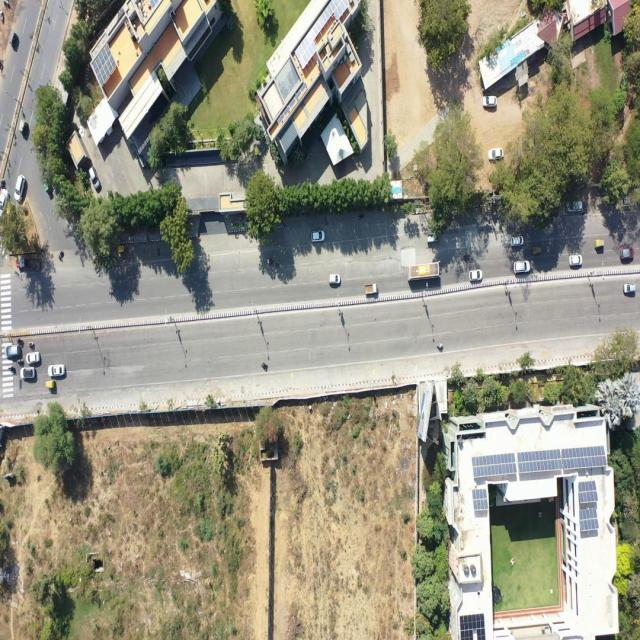3W: (17, 114, 29, 140), (114, 242, 131, 258), (592, 237, 608, 253), (530, 242, 544, 258), (44, 378, 58, 391), (117, 245, 127, 254)
Bus: (406, 258, 443, 285), (408, 266, 439, 278)
Cars: (13, 168, 28, 205), (87, 162, 103, 194), (565, 197, 586, 219), (486, 146, 509, 166), (0, 184, 11, 225), (511, 258, 533, 277), (617, 242, 636, 264), (618, 192, 638, 212), (47, 362, 68, 381), (479, 92, 498, 113), (2, 342, 24, 360), (14, 172, 26, 204), (467, 266, 485, 286), (621, 281, 638, 301), (19, 364, 37, 382), (24, 350, 44, 366), (327, 270, 343, 289), (310, 227, 326, 246), (568, 253, 585, 270), (88, 167, 98, 192), (509, 234, 526, 248), (0, 189, 9, 214), (567, 199, 583, 212), (49, 364, 66, 376), (623, 282, 637, 296), (482, 94, 498, 106), (4, 346, 21, 357), (622, 195, 636, 208), (570, 255, 582, 266), (511, 236, 524, 246), (27, 354, 41, 363), (620, 247, 634, 256), (329, 274, 340, 285), (21, 369, 34, 378), (469, 270, 482, 279), (488, 150, 502, 158), (514, 262, 530, 269), (311, 232, 324, 239)
LCV: (41, 168, 56, 204), (362, 280, 382, 298), (8, 28, 20, 53), (41, 173, 53, 194), (426, 232, 440, 248), (18, 115, 27, 136), (10, 30, 18, 48), (44, 380, 56, 390), (594, 239, 605, 248), (532, 245, 542, 254)
M2W: (260, 357, 271, 375), (264, 255, 276, 269), (461, 249, 473, 263), (435, 341, 446, 356), (7, 364, 18, 378), (15, 333, 26, 347), (356, 210, 367, 223), (0, 51, 5, 77), (26, 339, 36, 351), (16, 356, 26, 368), (8, 364, 17, 377), (260, 361, 270, 371), (26, 340, 36, 350), (0, 177, 7, 190), (356, 212, 365, 222), (0, 177, 7, 189), (1, 7, 5, 25), (267, 254, 273, 266), (436, 340, 443, 350), (463, 255, 470, 262), (17, 337, 24, 344), (18, 358, 24, 365)
Truck: (365, 284, 377, 295), (428, 232, 438, 244)
